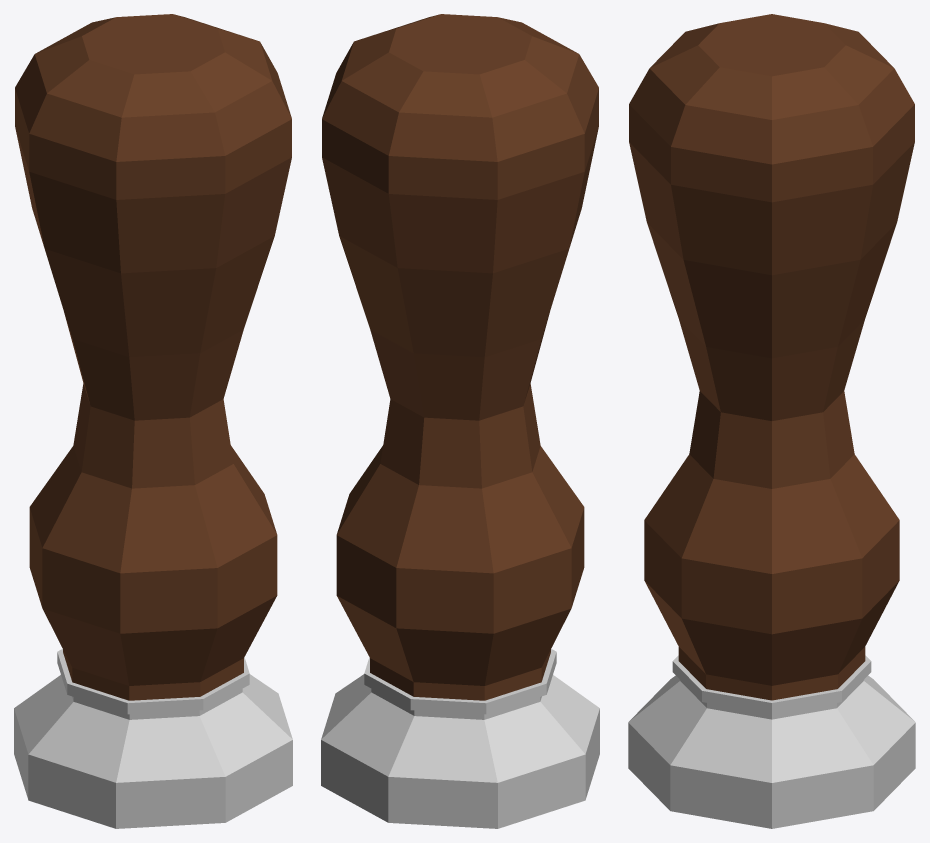
File: letterstamp01.obj
3 views of the same model, side by side, from view 1: azimuth 30°, elevation 25°; view 2: azimuth 150°, elevation 25°; view 3: azimuth 270°, elevation 25° (orthographic).
Parts seen in each view (by area): view 1: Cylinder.001; view 2: Cylinder.001; view 3: Cylinder.001.
Part boxes in pixels (bbox=[...]): Cylinder.001: bbox=[14, 14, 292, 828]; Cylinder.001: bbox=[321, 14, 599, 828]; Cylinder.001: bbox=[628, 14, 915, 828].
Bounding box in the file's own units: 0.0285 × 0.079 × 0.0285.
